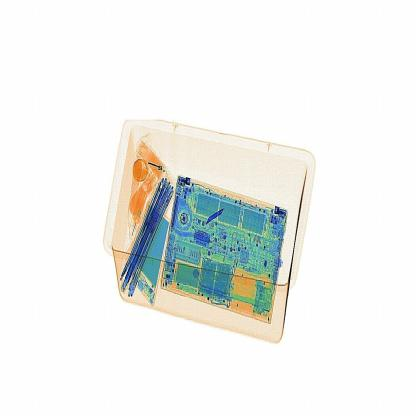pliers: (204, 202, 233, 234)
